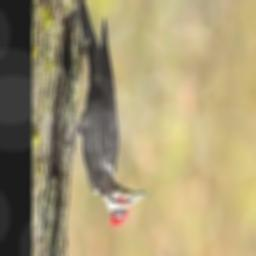Woodpecker: (63, 0, 145, 226)
